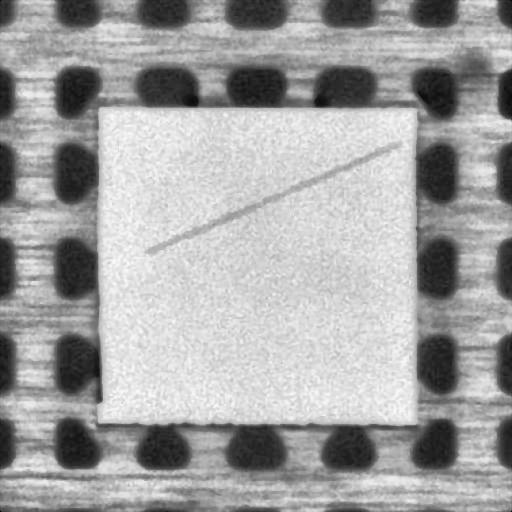DIE_CRACK: (146, 142, 398, 252)
